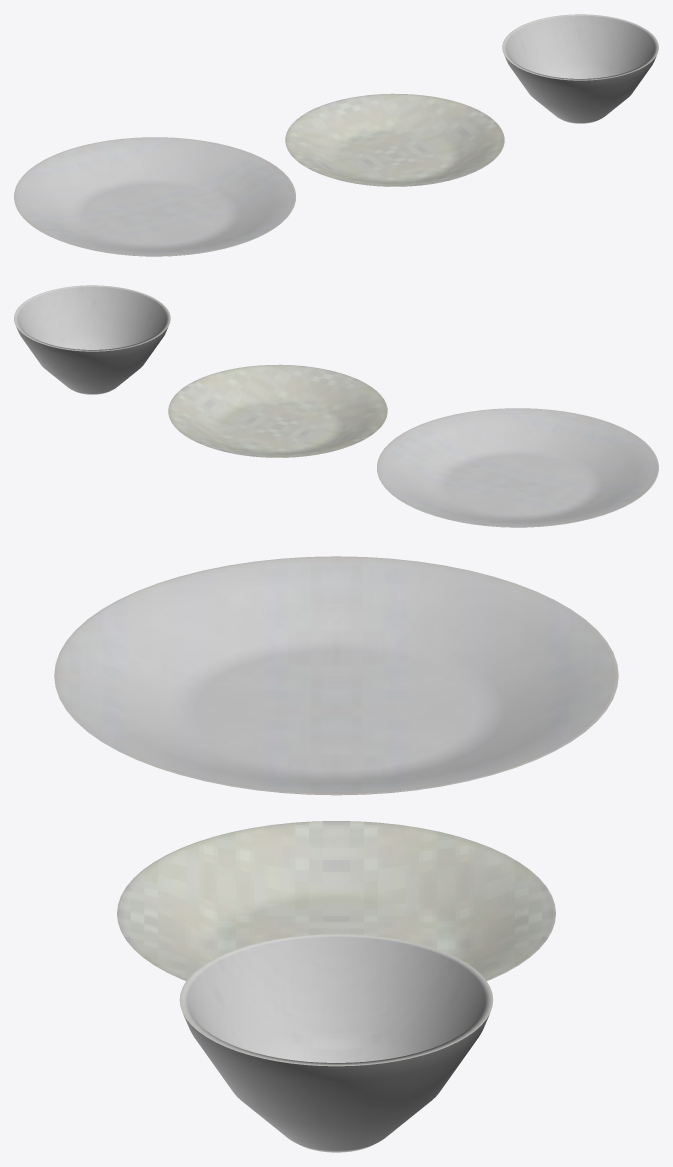
Rendered from RAY-11.glb.
The picture shows the model from 3 angles, top to bottom: view 1: azimuth 30°, elevation 25°; view 2: azimuth 150°, elevation 25°; view 3: azimuth 270°, elevation 25°; orthographic projection. The views are drawn at different scales.
Size of the model in its own units: 0.68 by 0.07 by 0.27.
Materials: 6 (6 with a texture image).
